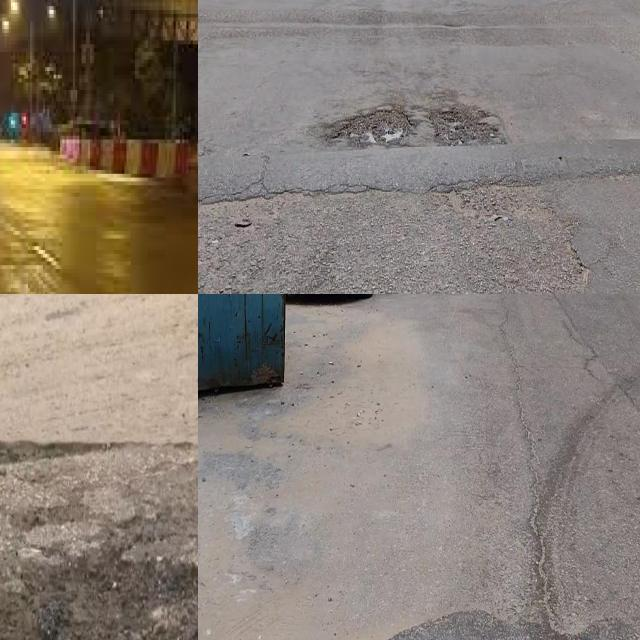Pothole: (0, 414, 198, 640), (0, 443, 198, 640), (334, 106, 411, 154), (434, 109, 499, 147)
